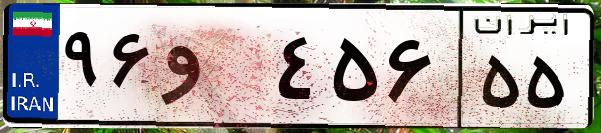4: (270, 28, 330, 110)
5: (330, 28, 385, 110), (475, 38, 525, 113), (525, 38, 570, 115)
6: (385, 28, 445, 110), (110, 28, 158, 98)
9: (57, 26, 110, 100)
و: (158, 20, 270, 120)
